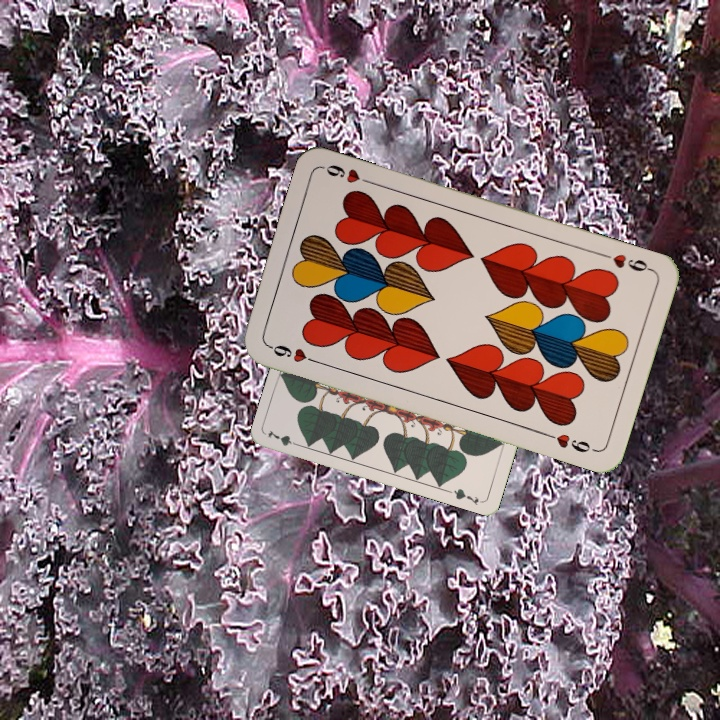G7: (264, 426, 304, 449)
H9: (264, 340, 322, 367), (597, 248, 655, 274)
